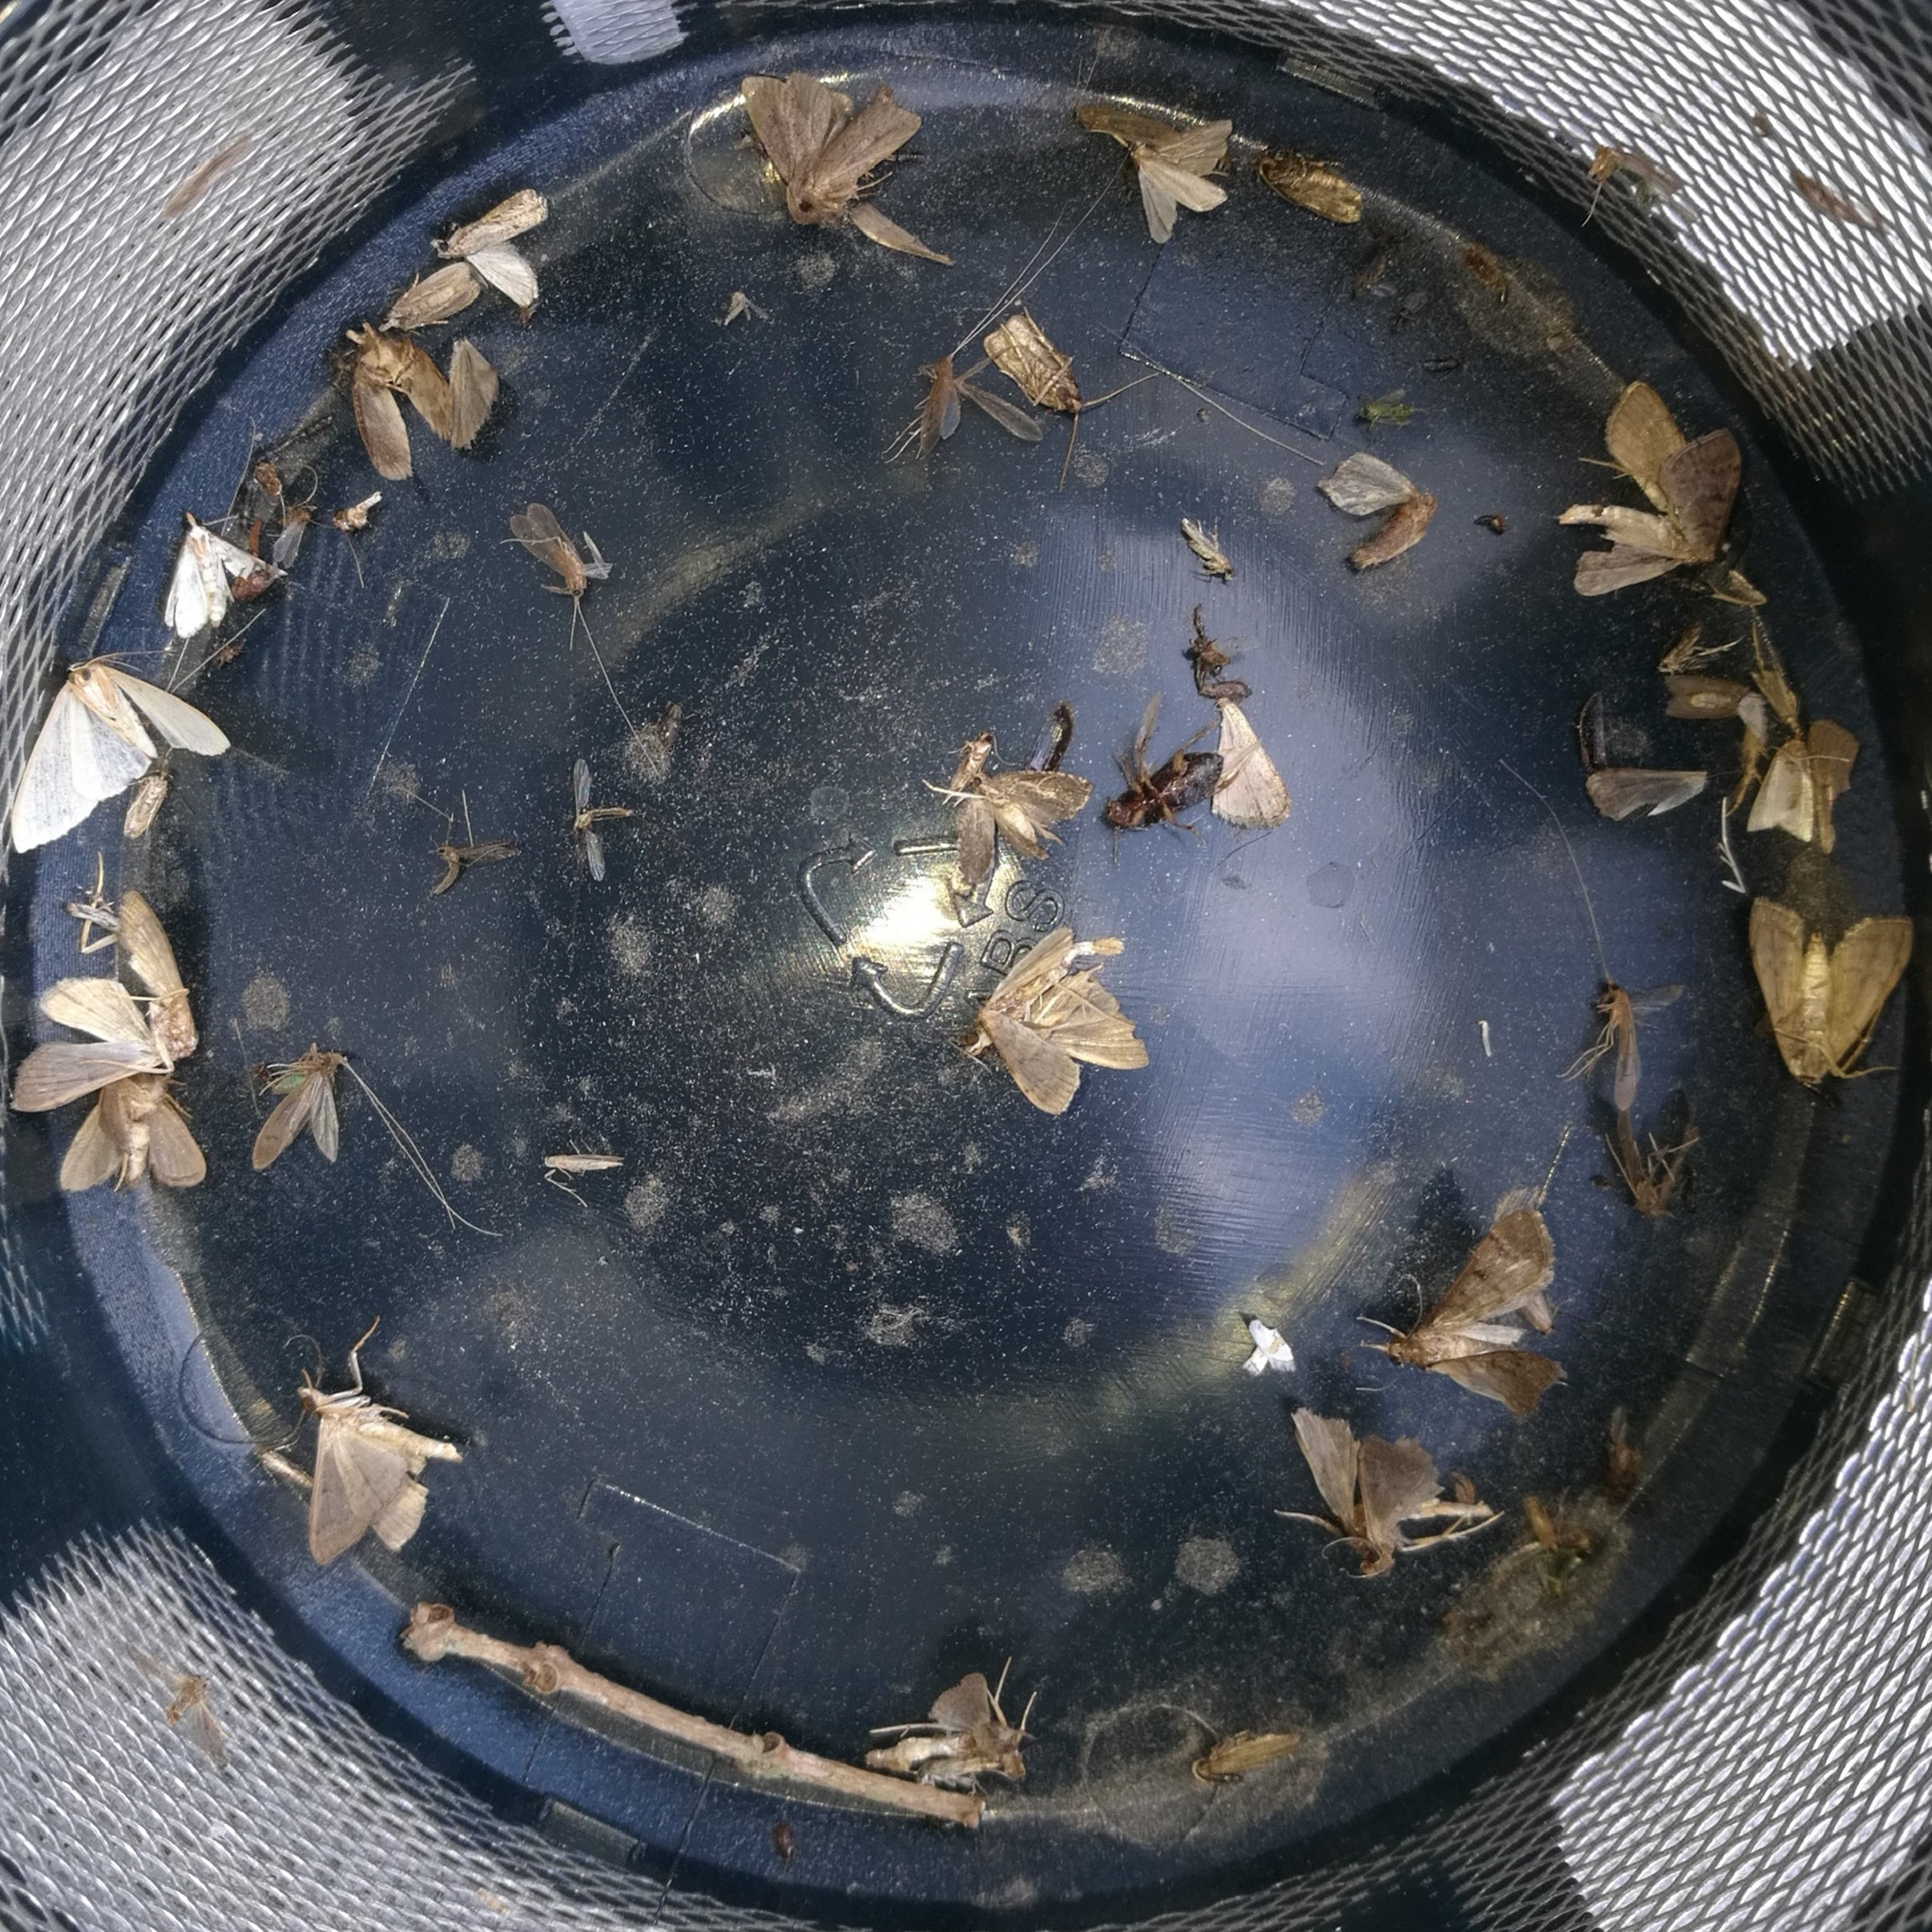mosquito: (242, 1042, 345, 1180), (1104, 738, 1219, 839), (985, 311, 1081, 412), (1576, 987, 1642, 1115), (1251, 154, 1359, 221), (513, 499, 584, 600), (895, 357, 957, 465), (379, 265, 474, 333), (1752, 741, 1803, 849)
moth: (16, 662, 228, 858), (5, 892, 195, 1106), (1389, 1187, 1566, 1414), (961, 929, 1148, 1115), (1560, 393, 1732, 594), (1752, 904, 1911, 1093), (295, 1385, 462, 1560), (745, 78, 915, 223), (350, 326, 471, 481), (60, 1070, 196, 1191), (1125, 122, 1235, 241), (433, 191, 548, 297), (165, 524, 265, 635)
